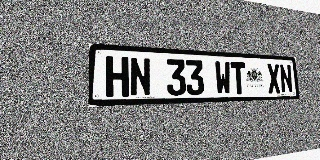3: (166, 59, 186, 96), (185, 60, 204, 95)
H: (106, 56, 129, 97)
N: (129, 57, 151, 97), (279, 64, 293, 93)
T: (230, 62, 247, 94)
W: (214, 61, 231, 95)
X: (266, 63, 281, 93)
